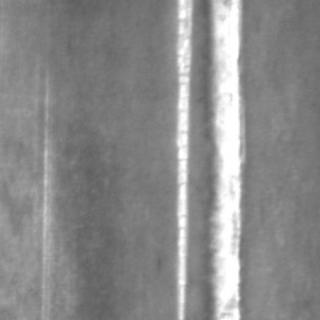scratches: (205, 0, 245, 316), (171, 0, 193, 316), (37, 63, 53, 317)
